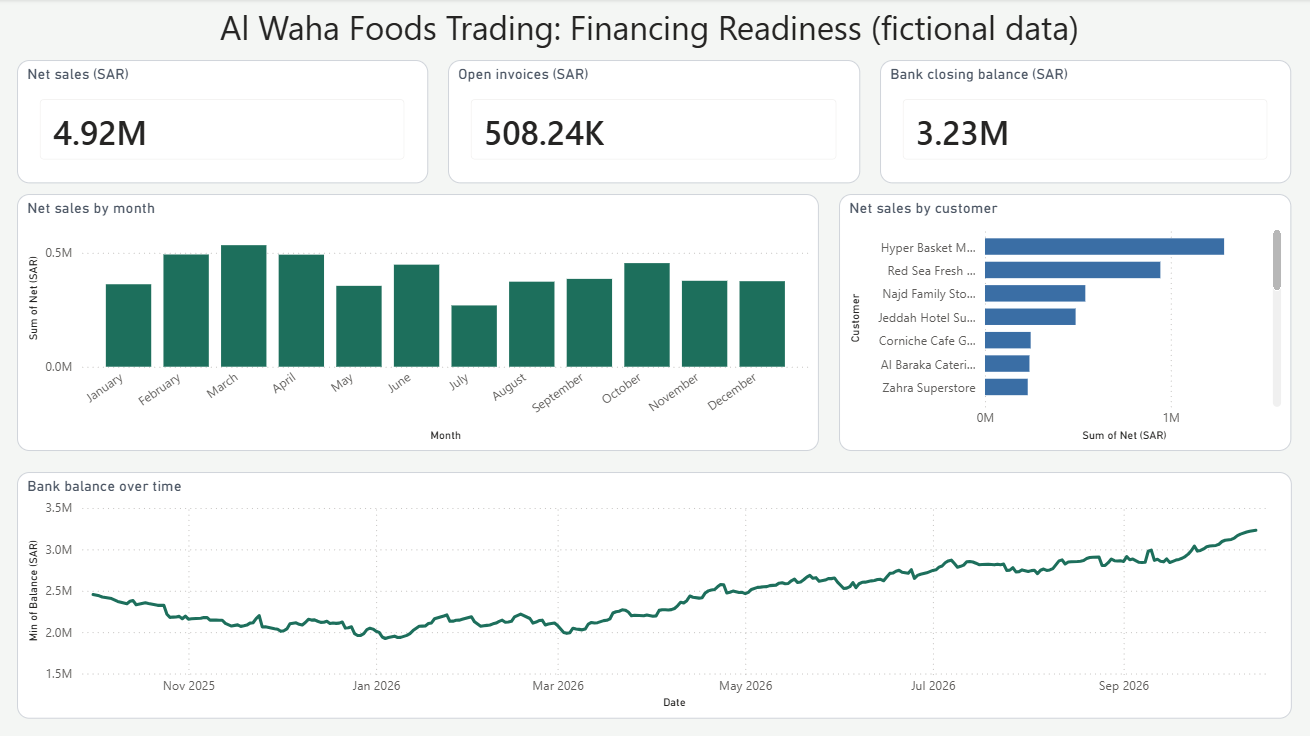

The dashboard page shown, as its layout file describes it:
{"tool":"powerbi","page":{"name":"Page 1","canvas":[1280,720],"ordinal":0},"visuals":[{"type":"clusteredColumnChart","title":"Net sales by month","fields":{"Category":["Invoices.Invoice Date.Variation.Date Hierarchy.Month"],"Y":["Sum(Invoices.Net (SAR))"]},"box":[20,190,780,250],"z":0},{"type":"clusteredBarChart","title":"Net sales by customer","fields":{"Category":["Invoices.Customer"],"Y":["Sum(Invoices.Net (SAR))"]},"box":[820,190,440,250],"z":1000},{"type":"lineChart","title":"Bank balance over time","fields":{"Category":["BankTransactions.Date"],"Y":["Min(BankTransactions.Balance (SAR))"]},"box":[20,460,1240,240],"z":2000},{"type":"cardVisual","title":"Net sales (SAR)","fields":{"Data":["Sum(Invoices.Net (SAR))"]},"box":[20.4,59.3,399.8,119.6],"z":3000},{"type":"cardVisual","title":"Open invoices (SAR)","fields":{"Data":["Sum(Invoices.Total (SAR))"]},"box":[439.6,59.3,400.7,119.6],"z":4000},{"type":"cardVisual","title":"Bank closing balance (SAR)","fields":{"Data":["Max(BankTransactions.Balance (SAR))"]},"box":[859.8,59.3,399.8,119.6],"z":5000},{"type":"textbox","box":[0,0,1271.2,69.1],"z":6000}]}

Visuals, with their boxes in screenshot pixels (x1, y1, x2, y2), scaled from the page's 1280x720 canvas onto the 1310x736 screenshot:
"Net sales by month" clusteredColumnChart: crop(20, 194, 819, 450)
"Net sales by customer" clusteredBarChart: crop(839, 194, 1290, 450)
"Bank balance over time" lineChart: crop(20, 470, 1290, 716)
"Net sales (SAR)" cardVisual: crop(21, 61, 430, 183)
"Open invoices (SAR)" cardVisual: crop(450, 61, 860, 183)
"Bank closing balance (SAR)" cardVisual: crop(880, 61, 1289, 183)
textbox: crop(0, 0, 1301, 71)
